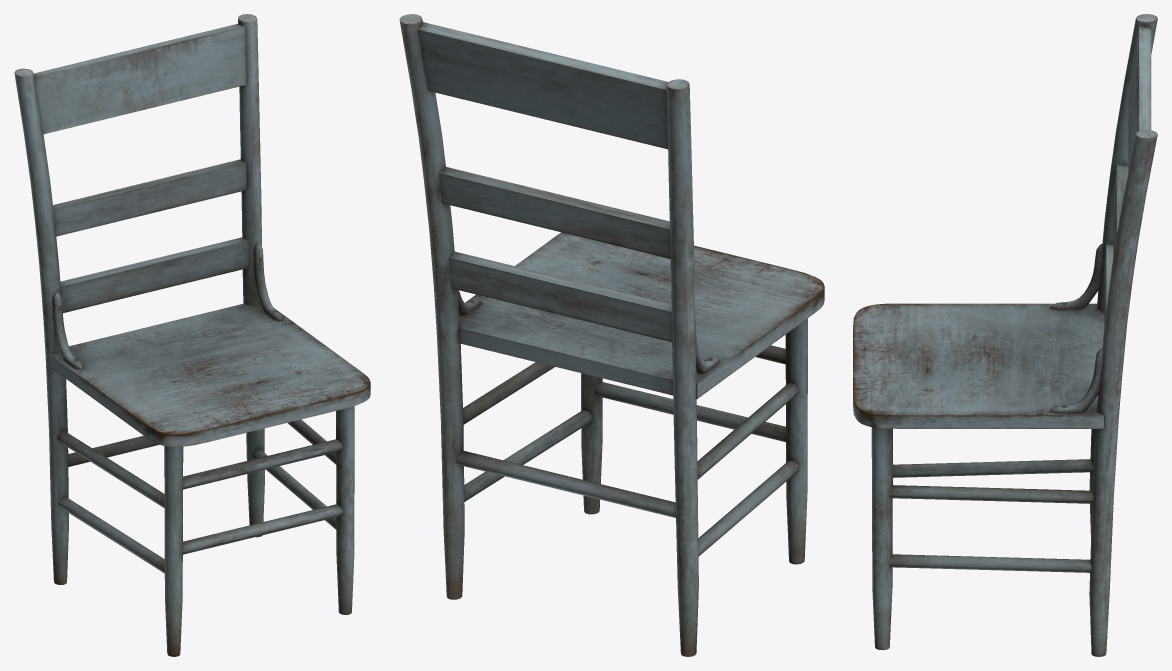
File: painted_wooden_chair_02.glb
3 views of the same model, side by side, from view 1: azimuth 30°, elevation 25°; view 2: azimuth 150°, elevation 25°; view 3: azimuth 270°, elevation 25° (orthographic). The views are drawn at different scales.
Bounding box in the file's own units: 0.6394 × 1.26 × 0.6621.
Materials: 1 (1 with a texture image).
